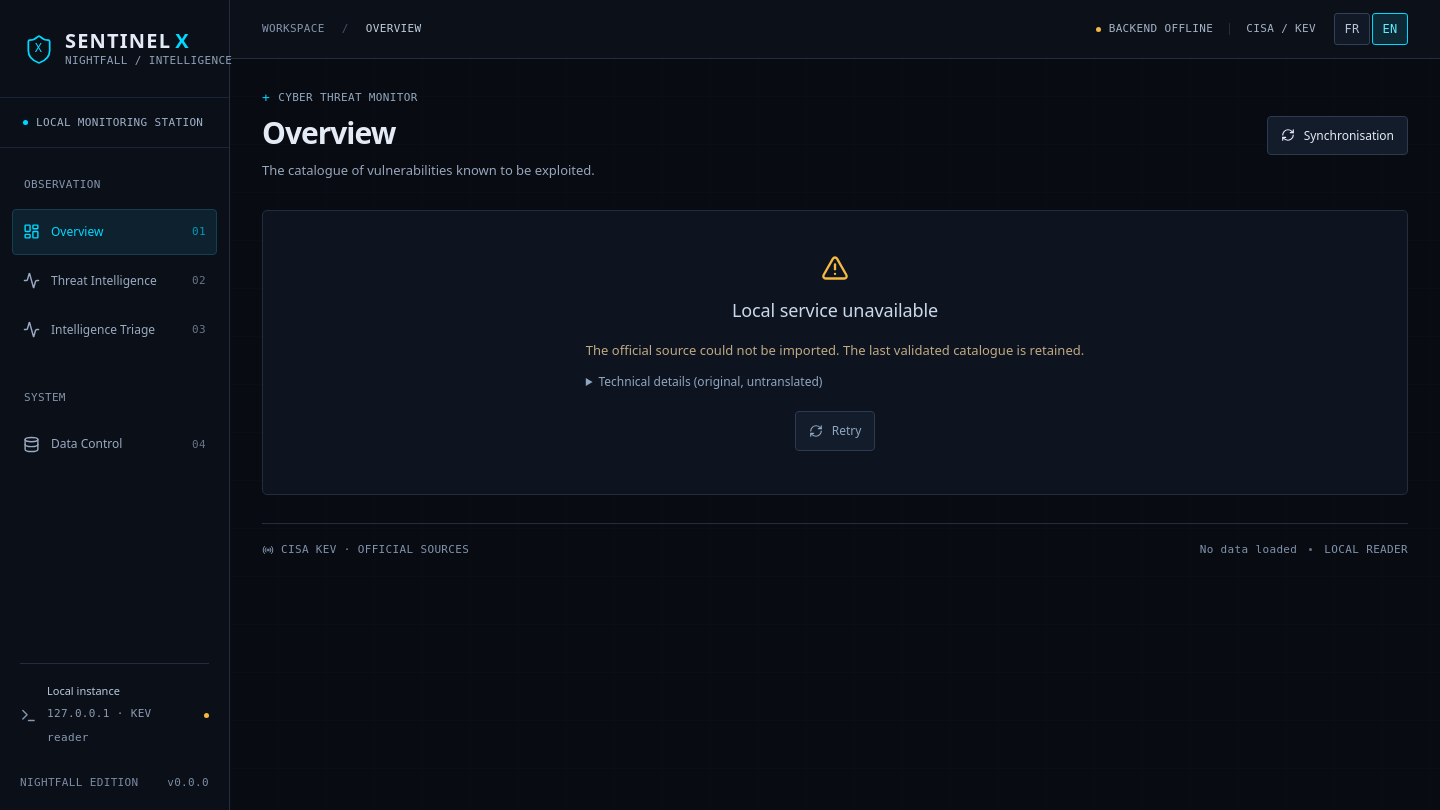
Test: explains API failures in the current language and labels the original technical detail
Expected: the heading "Local service unavailable" is shown, [732,297,938,324]
Expected: the text "The official source could not be imported. The last validated catalogue is retained." is shown, [586,341,1084,359]
Click the button with aria-label "Français" at (1352, 29), box [1334,13,1370,45]
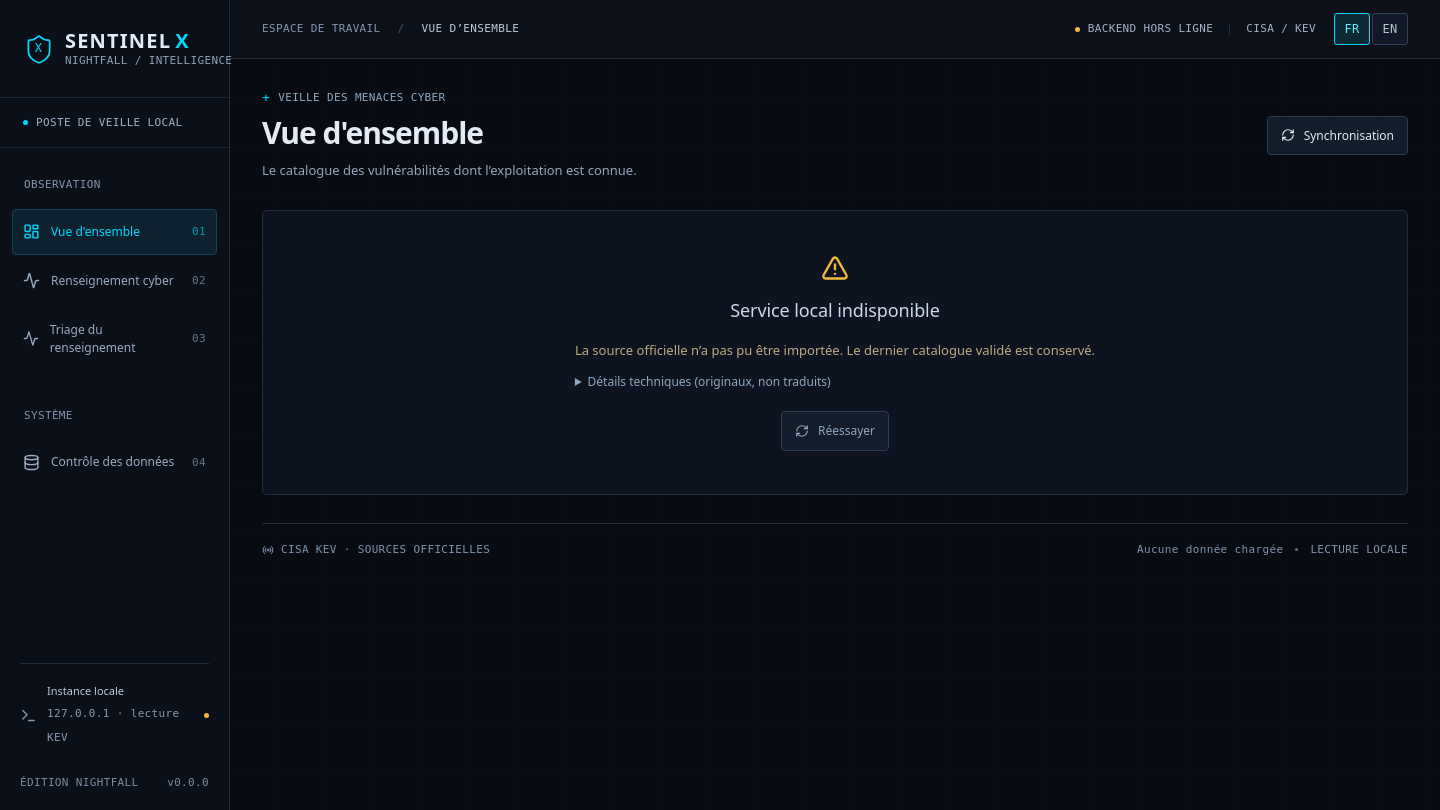
Now the text "La source officielle n’a pas pu être importée. Le dernier catalogue validé est conservé." is shown, box [575,341,1095,359]
